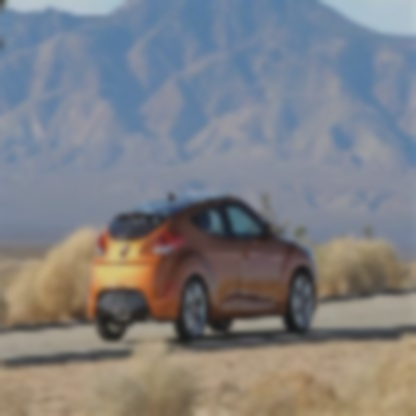Vehicle: (77, 183, 327, 350)
